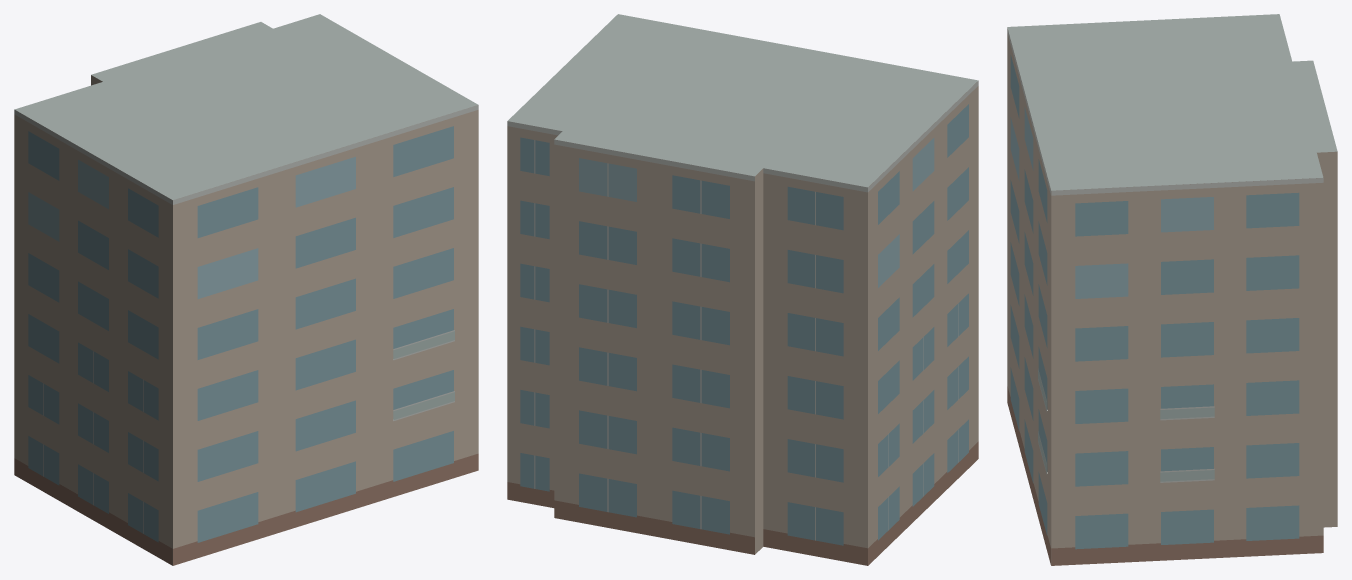
File: survey-upis-32736690.glb
3 renders of one model, left to right at view 1: azimuth 30°, elevation 25°; view 2: azimuth 150°, elevation 25°; view 3: azimuth 270°, elevation 25°, orthographic. The views are drawn at different scales.
Visible parts, largest first — view 1: survey-upis-32736690.tmp; view 2: survey-upis-32736690.tmp; view 3: survey-upis-32736690.tmp.
Boxes of the visible parts, <box> form: survey-upis-32736690.tmp: <box>14,14,478,565</box>; survey-upis-32736690.tmp: <box>507,14,978,565</box>; survey-upis-32736690.tmp: <box>1007,14,1337,565</box>.
Bounding box in the file's own units: 18.49 × 18.3 × 14.62.
